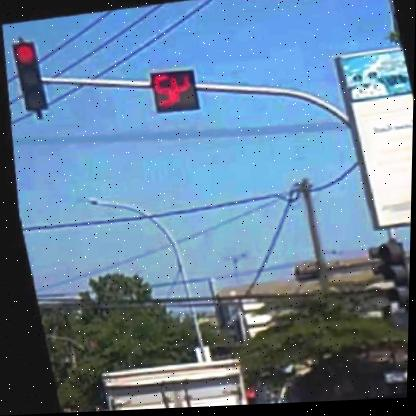Traffic Light -Red-: (8, 39, 48, 114)
